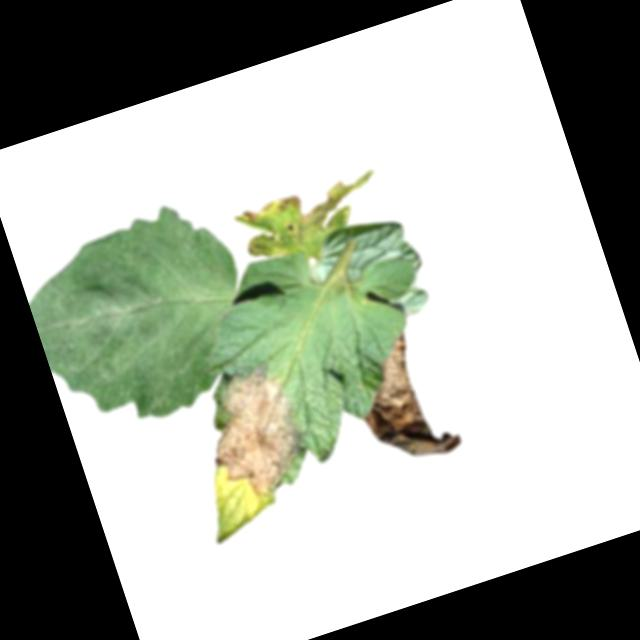Late_blight: (189, 357, 319, 510), (340, 323, 465, 476), (231, 164, 394, 275)
healthy: (12, 188, 275, 447)
